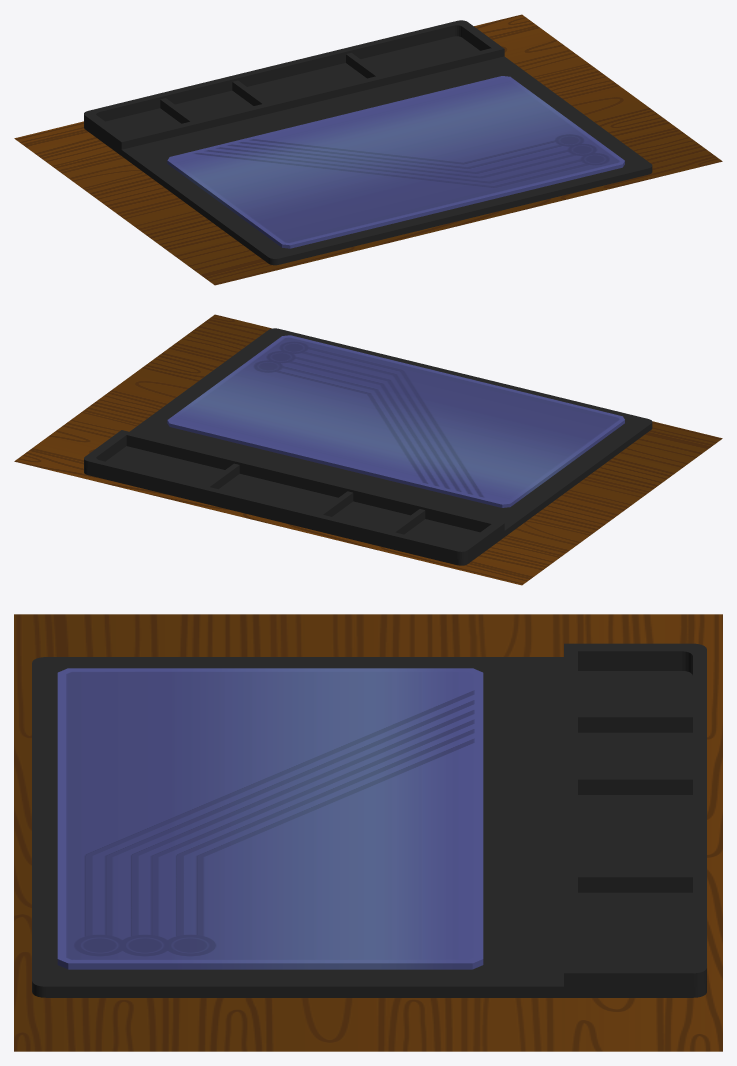
Rendered from ST_stage_B.fbx.
3 views of the same model, one above another, from view 1: azimuth 30°, elevation 25°; view 2: azimuth 150°, elevation 25°; view 3: azimuth 270°, elevation 25° (orthographic). The views are drawn at different scales.
Parts seen in each view (by area): view 1: stage, pCube1, table; view 2: stage, pCube1, table; view 3: stage, pCube1, table, pCube8, pCube7, pCube6.
Boxes of the visible parts, x1,y1,x2,y2 form: stage: (167, 76, 624, 248); pCube1: (84, 20, 652, 265); table: (14, 14, 722, 285); stage: (167, 335, 624, 507); pCube1: (84, 328, 652, 565); table: (14, 314, 722, 585); stage: (57, 668, 483, 969); pCube1: (32, 643, 706, 997); table: (14, 614, 722, 1051); pCube8: (578, 872, 692, 892); pCube7: (578, 774, 692, 794); pCube6: (578, 712, 692, 732).
Bounding box in the file's own units: 49.26 × 1.29 × 33.75.
Materials: 3 (3 with a texture image).
